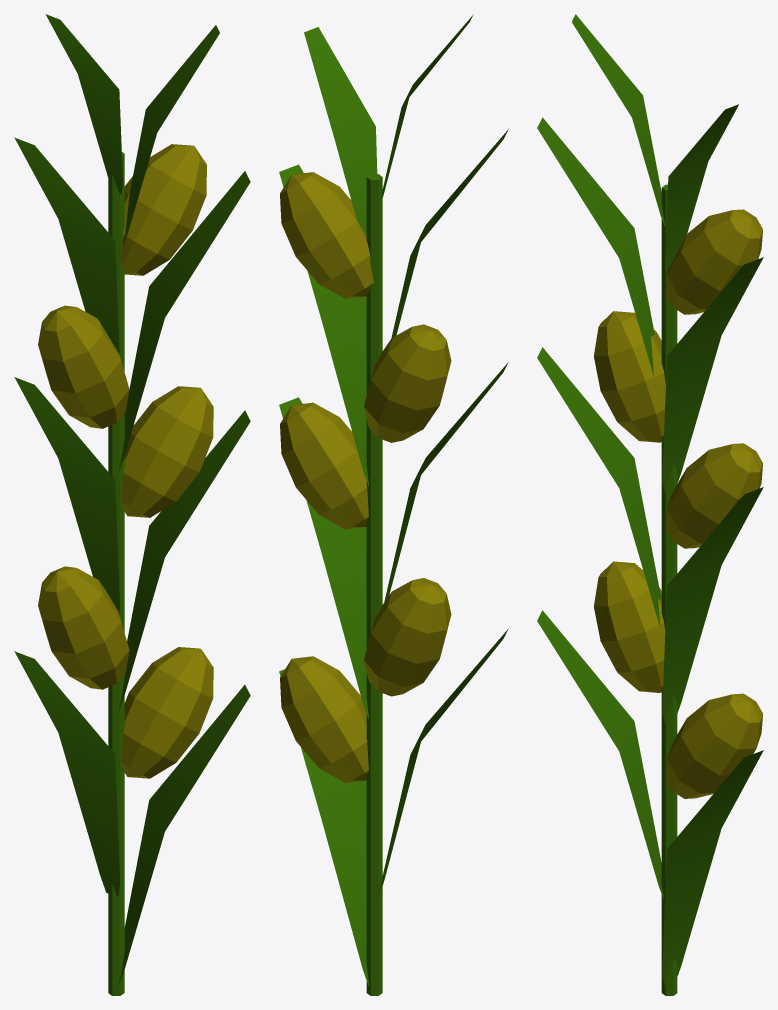
The model's file is M_corn.fbx.
3 views of the same model, side by side, from view 1: azimuth 30°, elevation 25°; view 2: azimuth 150°, elevation 25°; view 3: azimuth 330°, elevation 25° (orthographic). The views are drawn at different scales.
Visible parts, largest first — view 1: pasted__leaf_low9; view 2: pasted__leaf_low9; view 3: pasted__leaf_low9.
Part boxes in pixels (x1,y1,x2,y2): pasted__leaf_low9: [14, 14, 250, 995]; pasted__leaf_low9: [279, 14, 508, 995]; pasted__leaf_low9: [537, 14, 763, 995].
Size of the model in its own units: 19.18 by 80.18 by 7.41.
